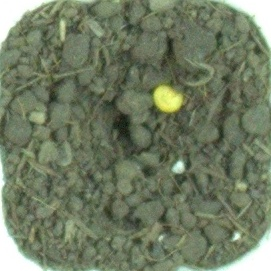pepper seed: (58, 23, 245, 139)
